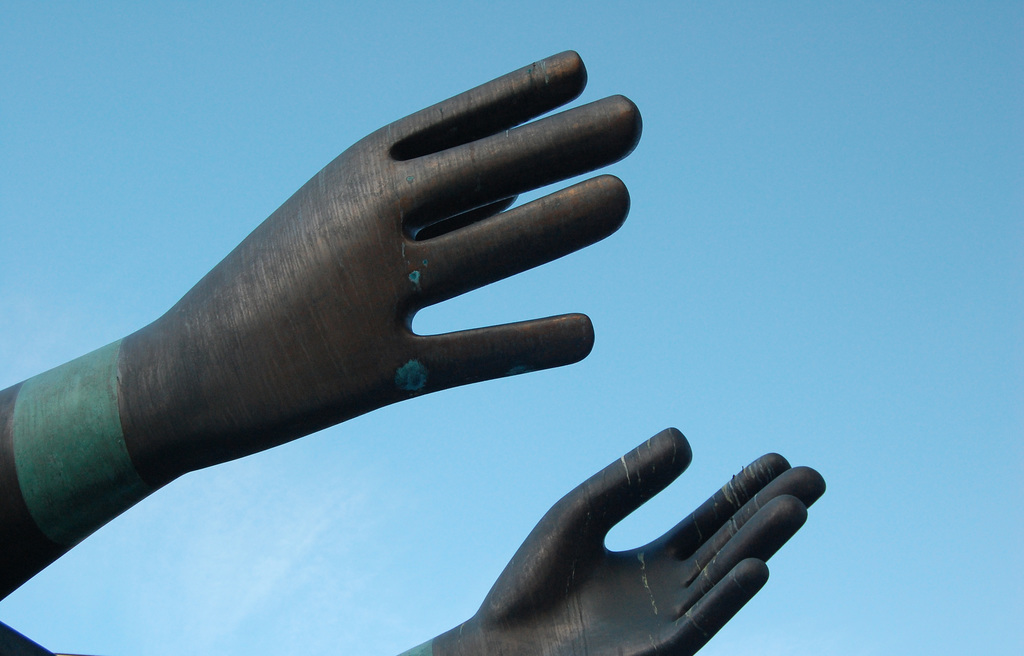Person: (0, 49, 826, 656)
